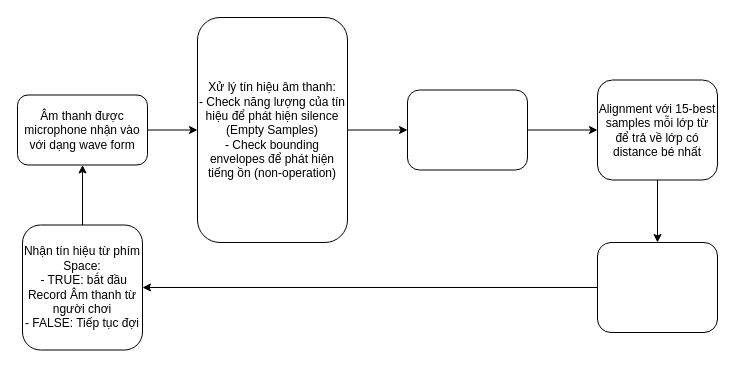
The diagram is 735 pixels wide and 368 high, and some of its shapes have lost their labels. Each missing label, with the centre of its shape:
Trích chọn 39 hệ số đặc trưng MFCCs từ Tín hiệu nhận vào: (467,129)
Đưa nhãn được trả về cho Game Engine để xử lý hành vi cho Agent: (657,287)
